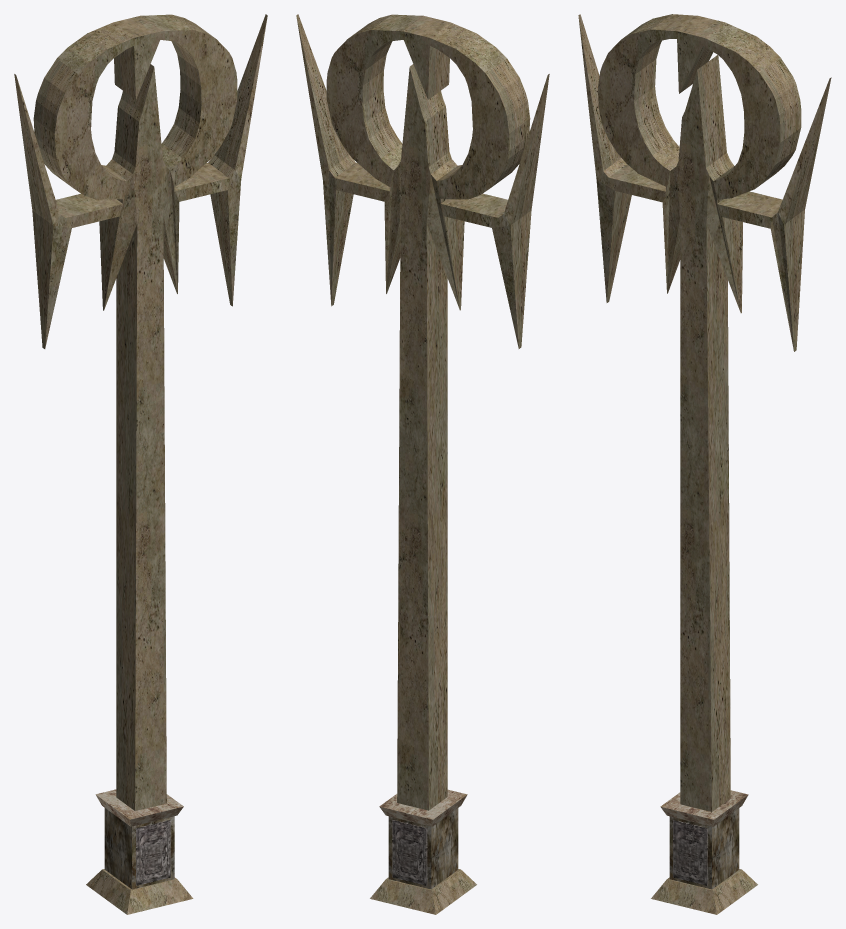
Rendered from DEMONICCROSS.fbx.
The picture shows the model from 3 angles, left to right: view 1: azimuth 30°, elevation 25°; view 2: azimuth 150°, elevation 25°; view 3: azimuth 330°, elevation 25°; orthographic projection.
Parts seen in each view (by area): view 1: Mesh1; view 2: Mesh1; view 3: Mesh1.
Boxes of the visible parts, left/top/right/bottom form: Mesh1: left=14, top=14, right=267, bottom=914; Mesh1: left=296, top=14, right=549, bottom=914; Mesh1: left=578, top=14, right=831, bottom=914.
Size of the model in its own units: 10.23 by 33.66 by 2.91.
